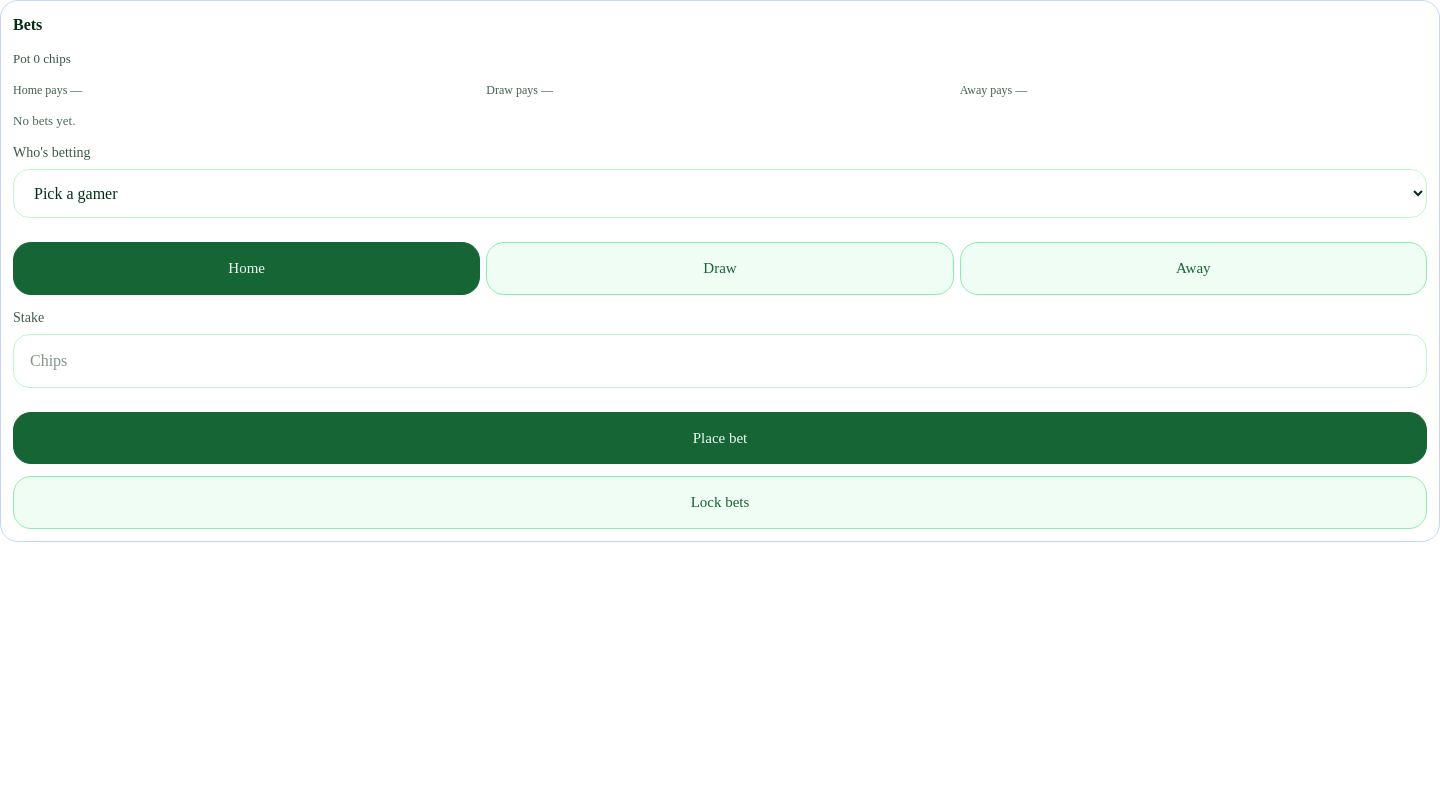
BetsPanel › asks again when the stake is corrected to another large one
The image size is (1440, 810).
Select "Cy" in the dropdown labelled "Who's betting" at (720, 194), box [13,169,1427,218]
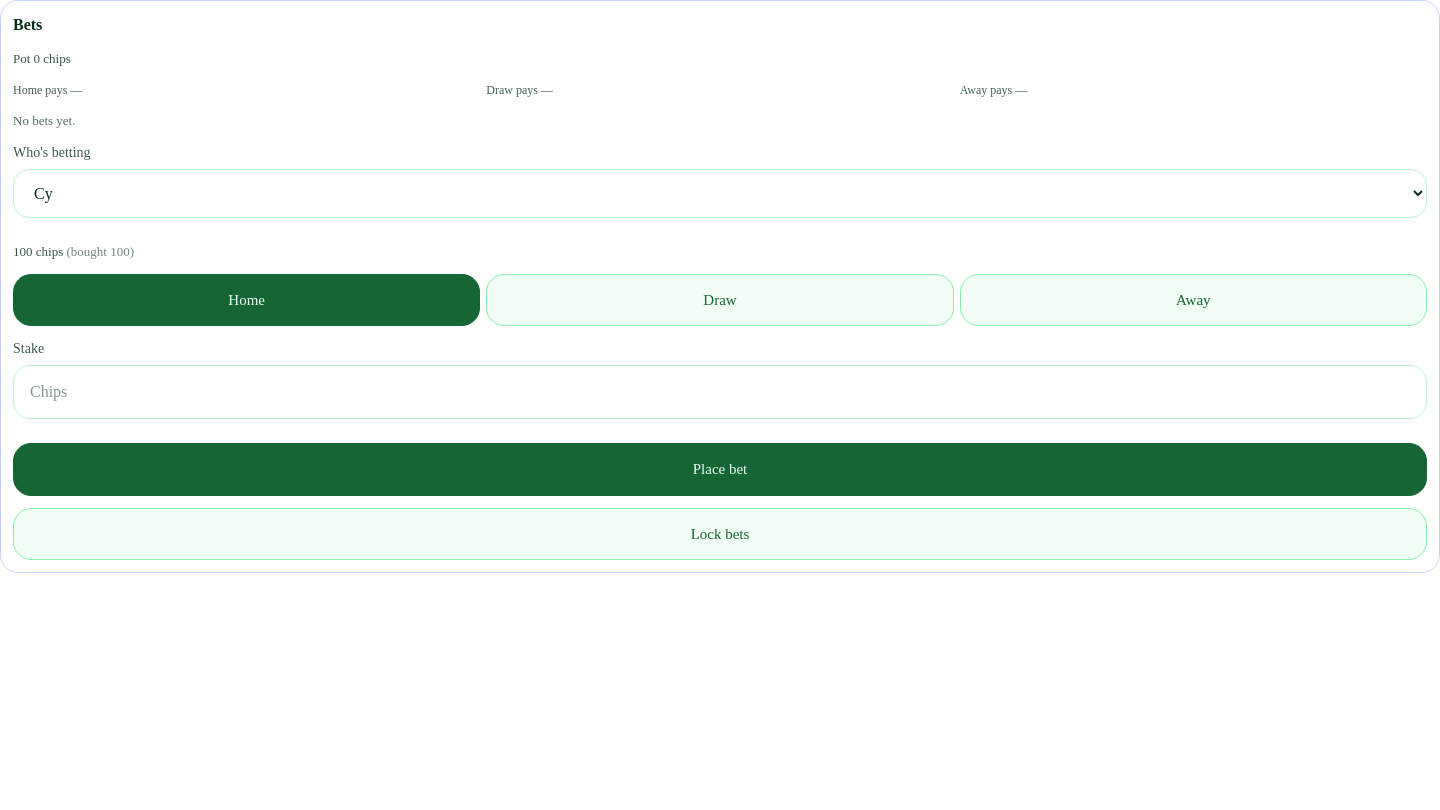
Click the button "Draw" at (720, 300), box [486,274,954,326]
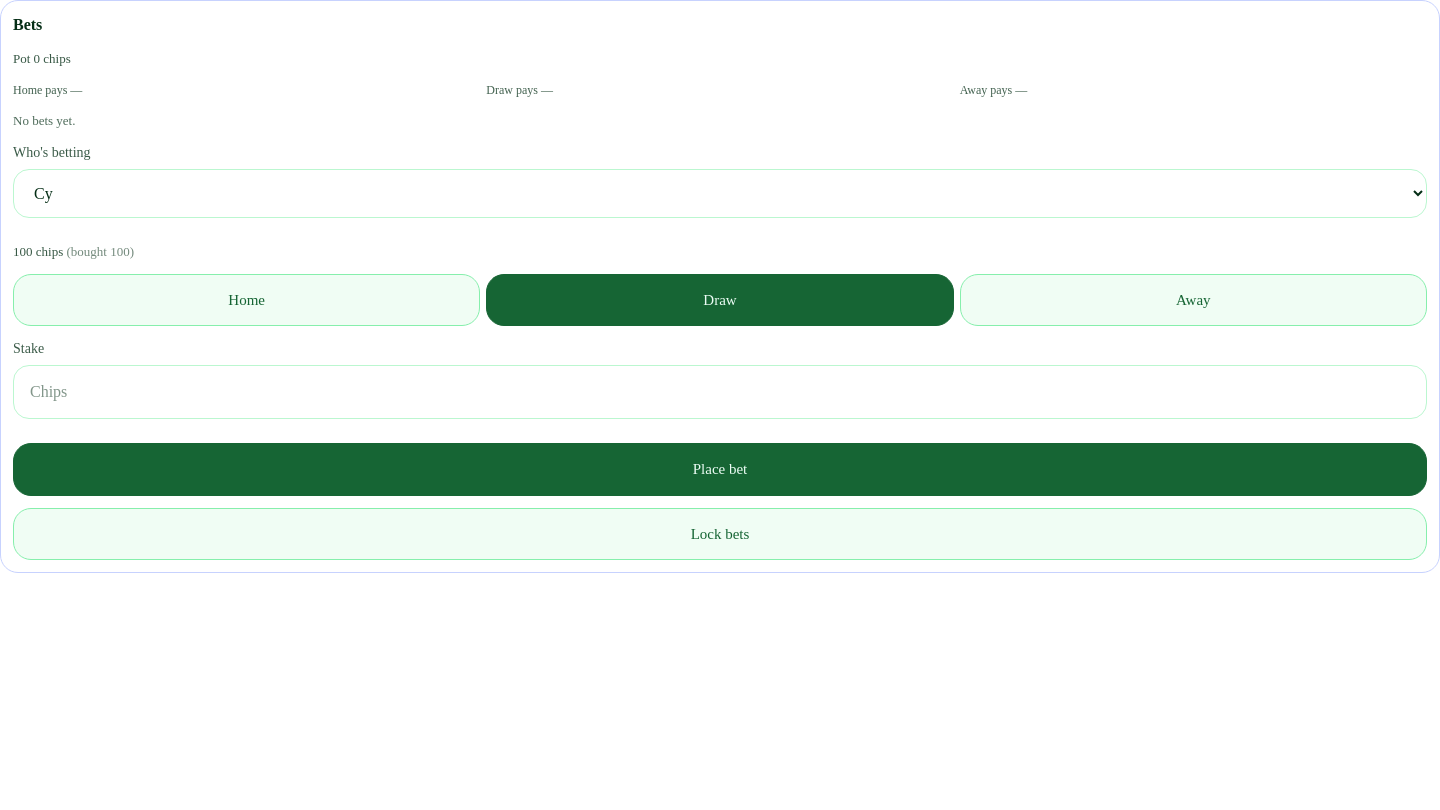
Type "5000" into the field labelled "Stake" at (720, 392), box [13,365,1427,419]
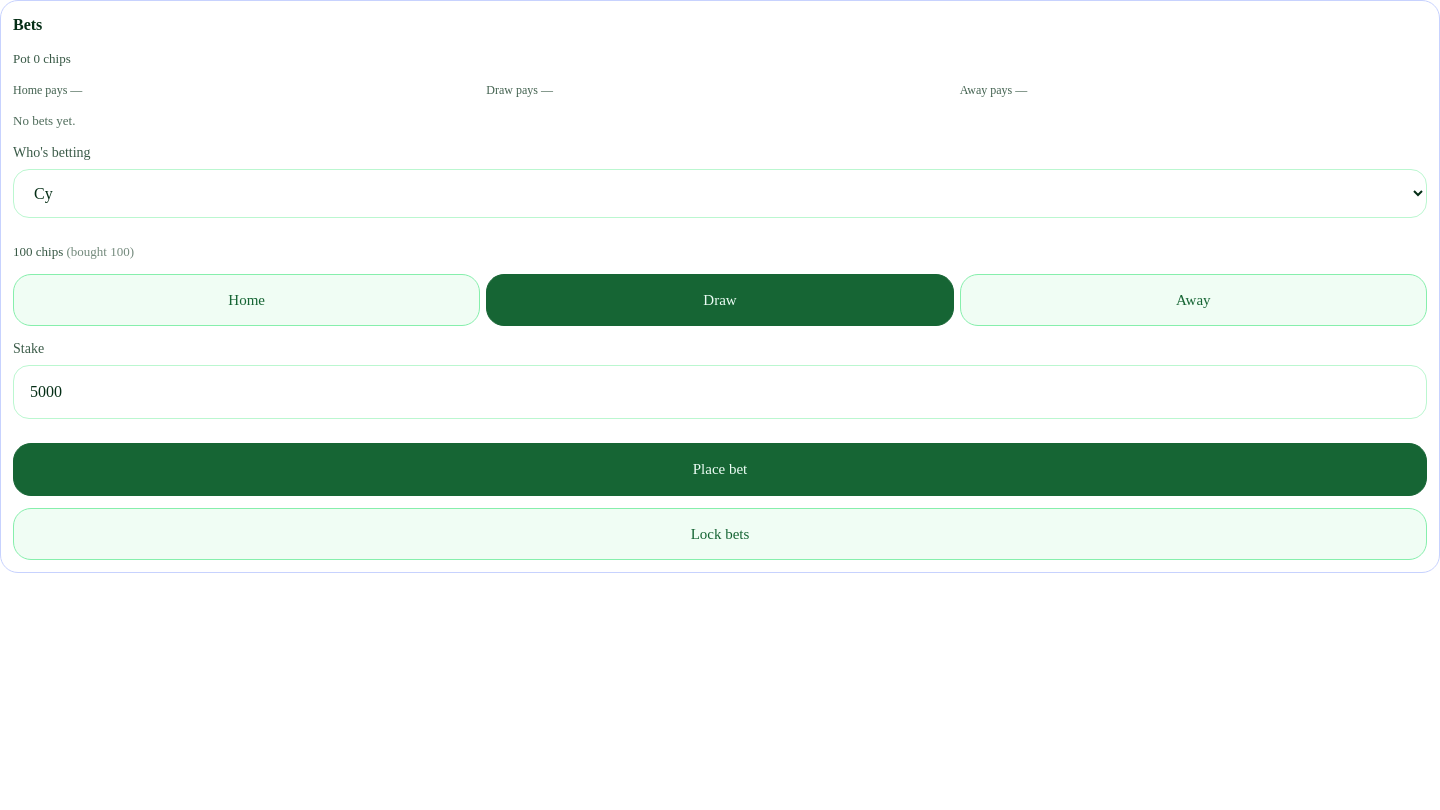
Click the button "Place bet" at (720, 469), box [13,443,1427,496]
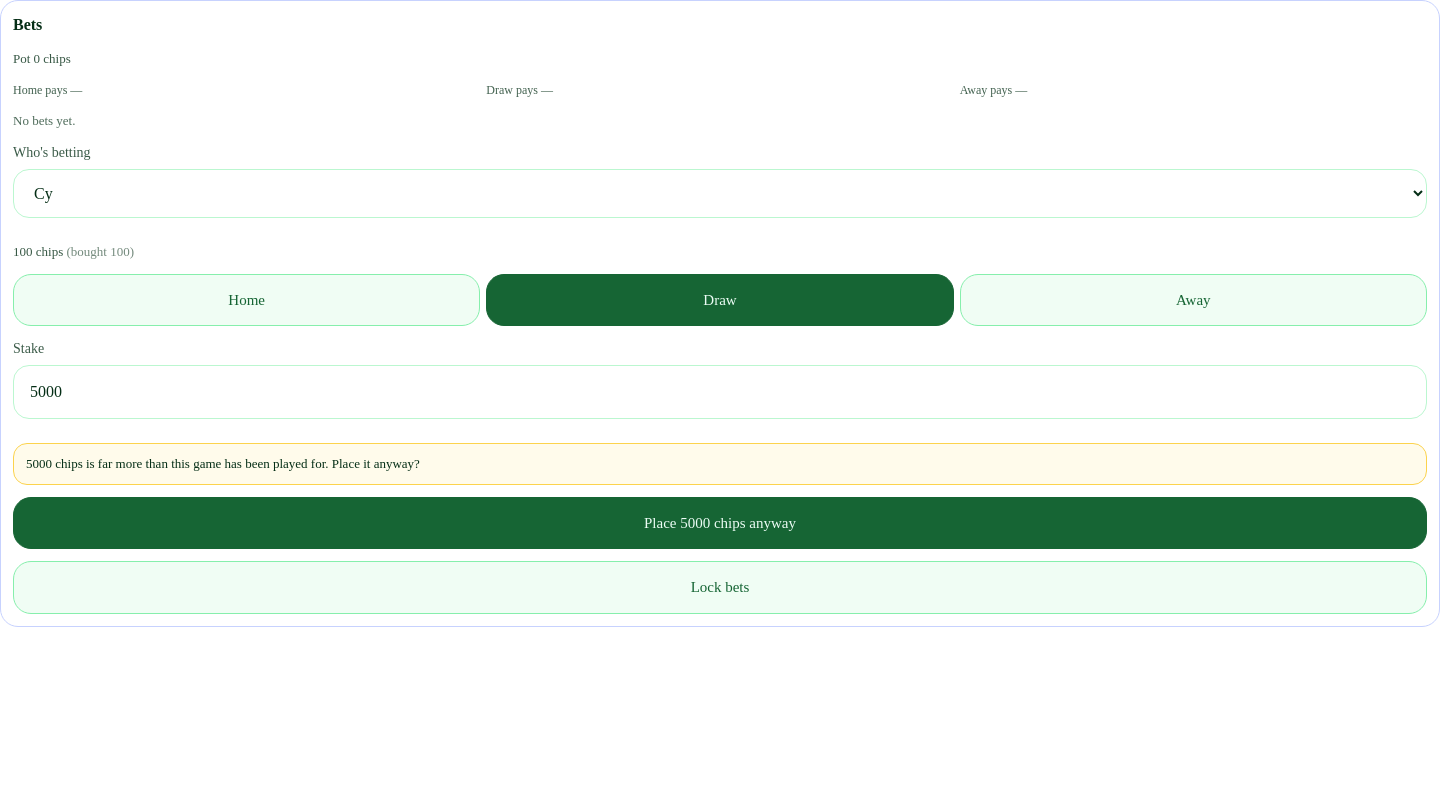
Replace the text in the field labelled "Stake" with "50000" at (720, 392), box [13,365,1427,419]
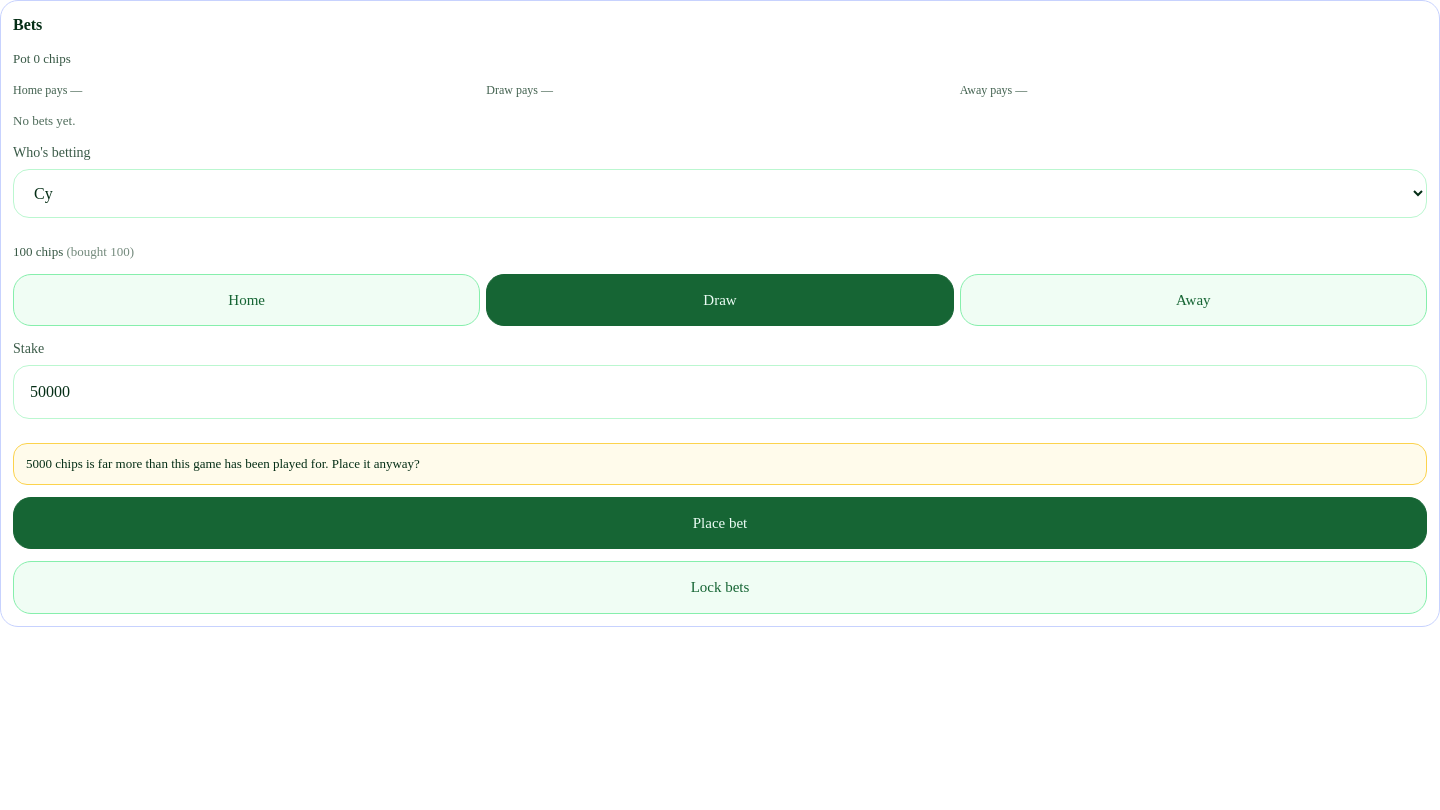
Click the button "Place bet" at (720, 523), box [13,496,1427,549]
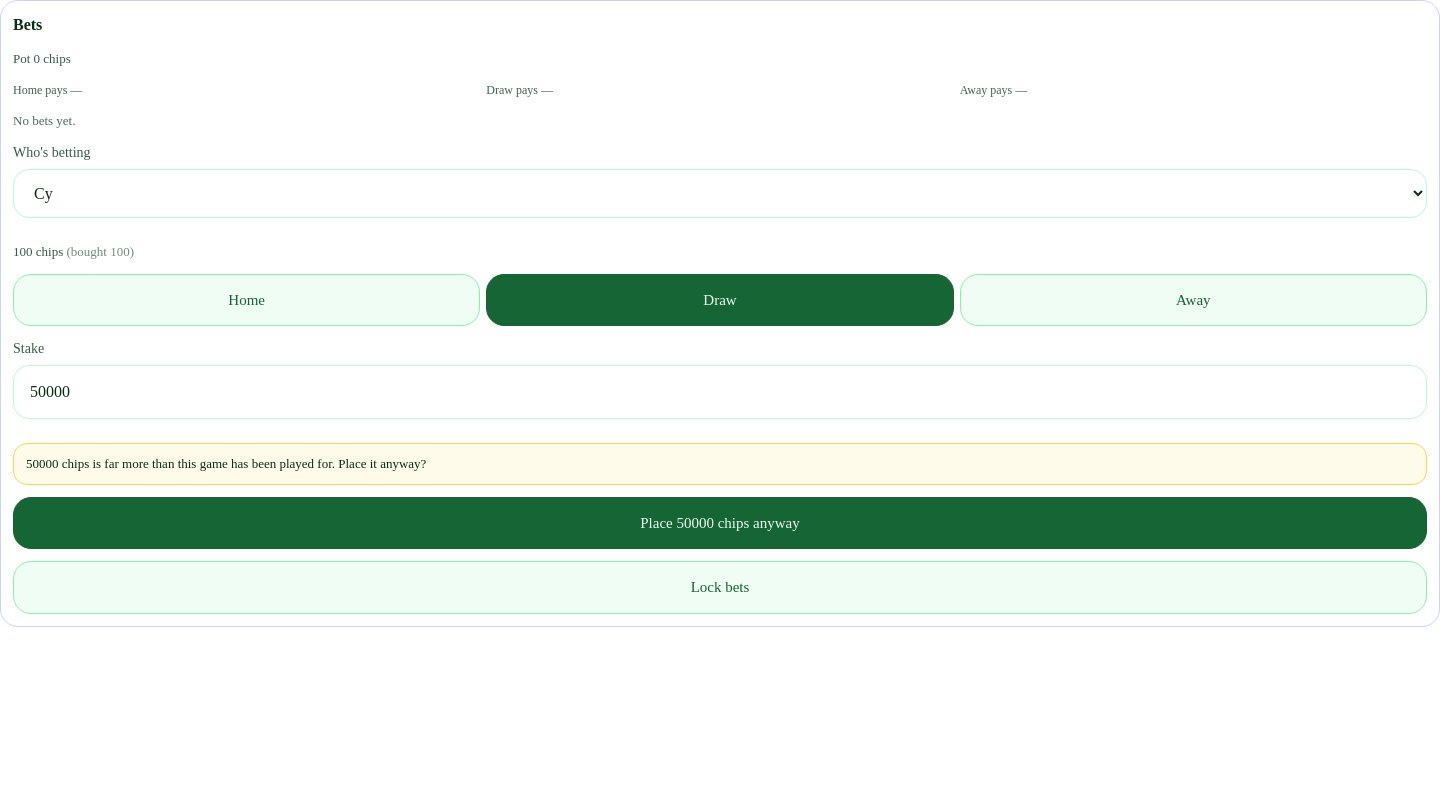
expect the text "50000 chips is far more" is shown: met, box [26,456,426,471]
